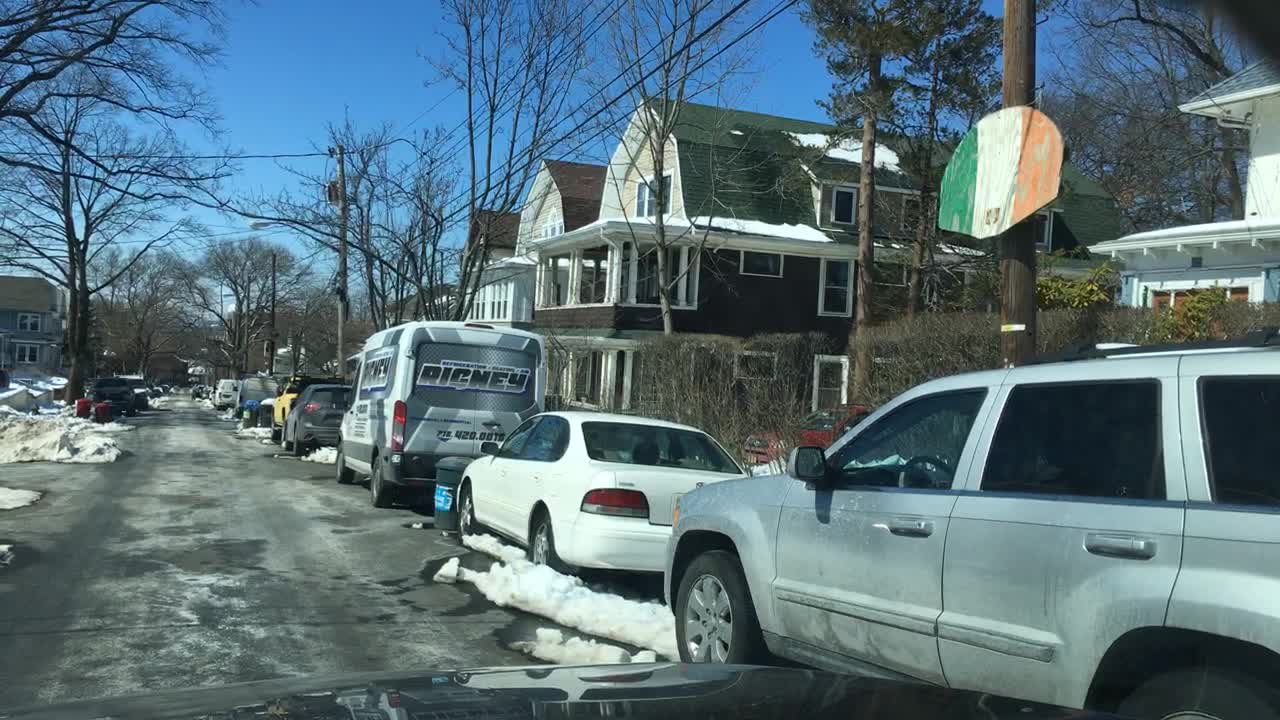car: (661, 328, 1278, 717), (461, 407, 754, 584), (331, 314, 554, 508), (742, 402, 878, 472), (281, 382, 353, 456), (82, 376, 142, 422), (233, 376, 279, 416), (121, 372, 153, 406), (212, 381, 237, 408), (187, 383, 204, 398), (149, 383, 164, 396), (164, 379, 176, 391), (202, 386, 212, 397)
truck: (269, 369, 346, 442)
